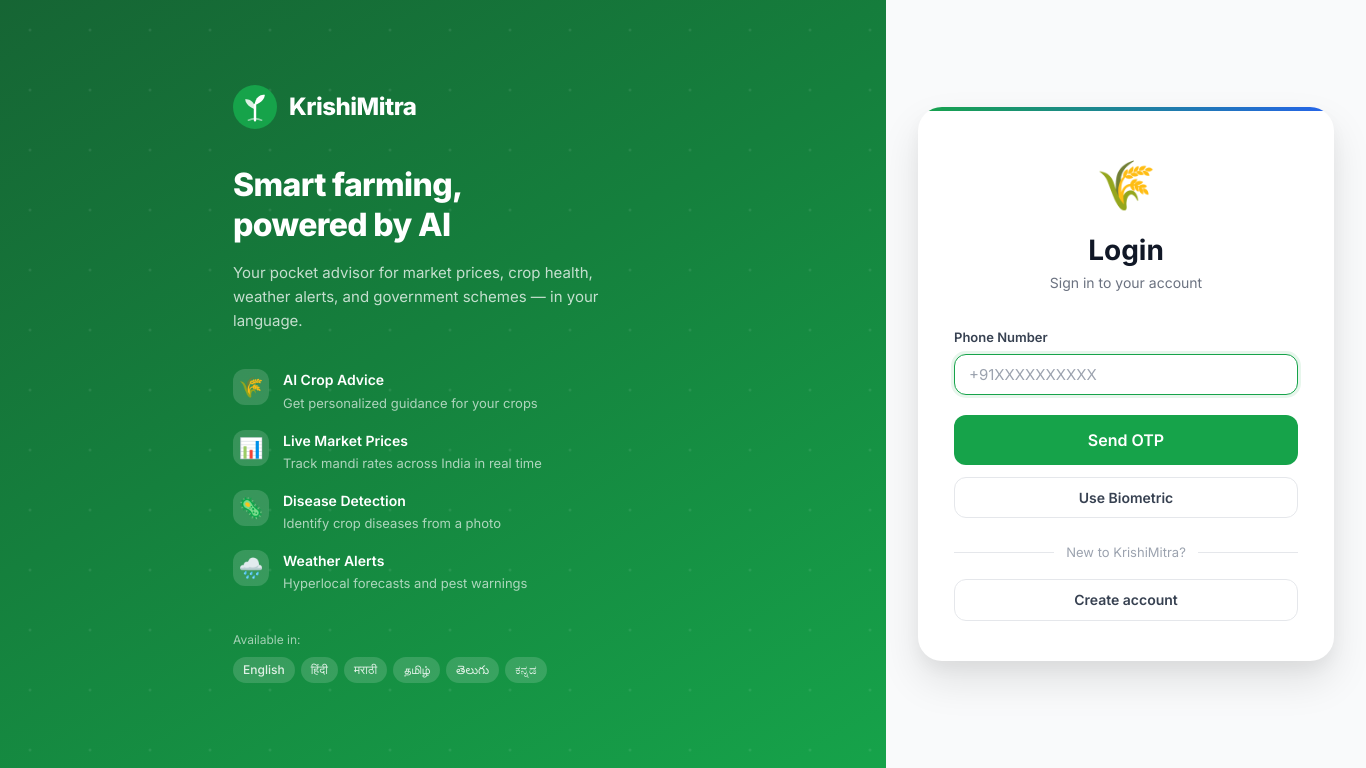
shows OTP input after sending OTP
This screenshot has width=1366, height=768.
In the field with placeholder "+91XXXXXXXXXX": (1126, 374) [954, 354, 1298, 394], type "+911234567890"
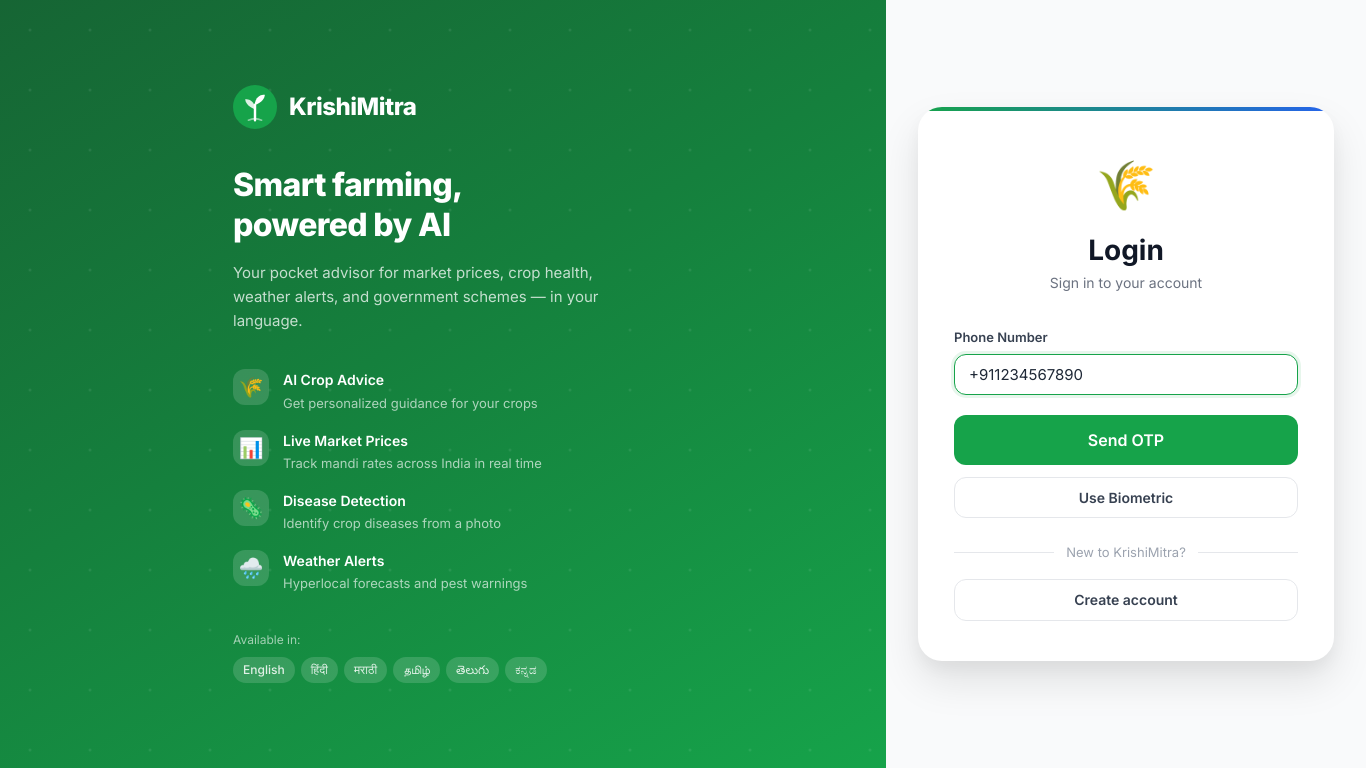
Click the button "Send OTP": (1126, 440) [954, 414, 1298, 465]
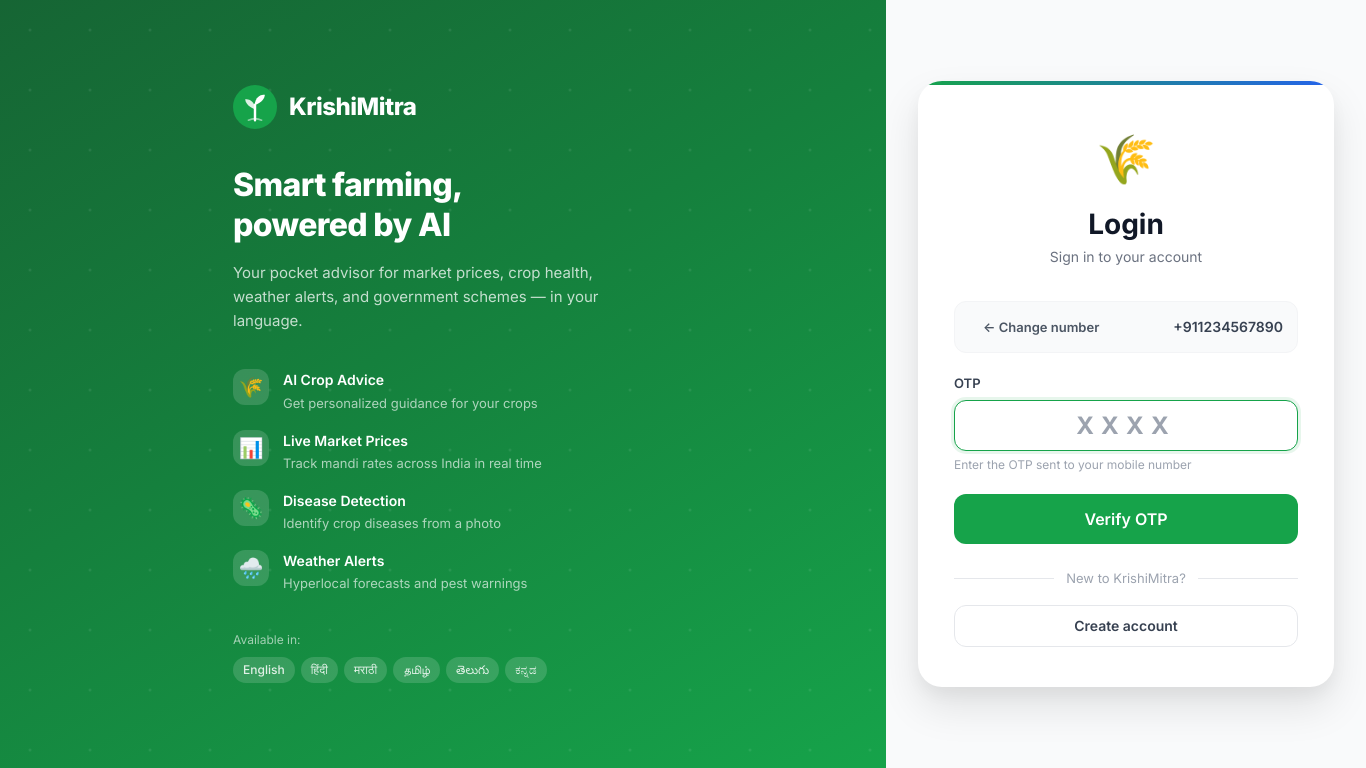
Expected: the field with placeholder "XXXX" is shown, [954, 400, 1298, 451]
Expected: the button "Verify OTP" is shown, [954, 494, 1298, 544]
